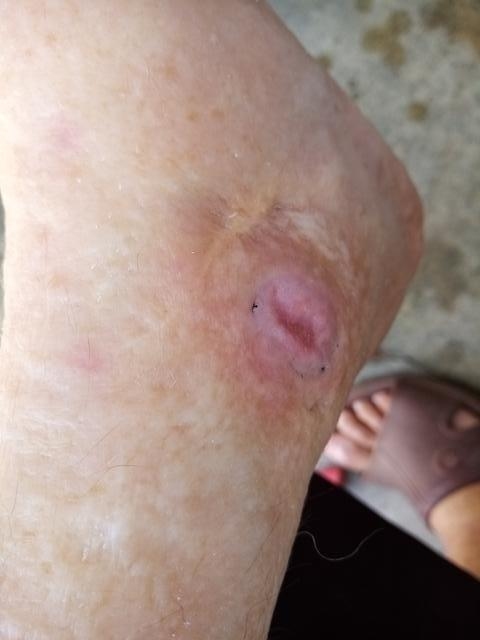wound: (252, 274, 348, 380)
